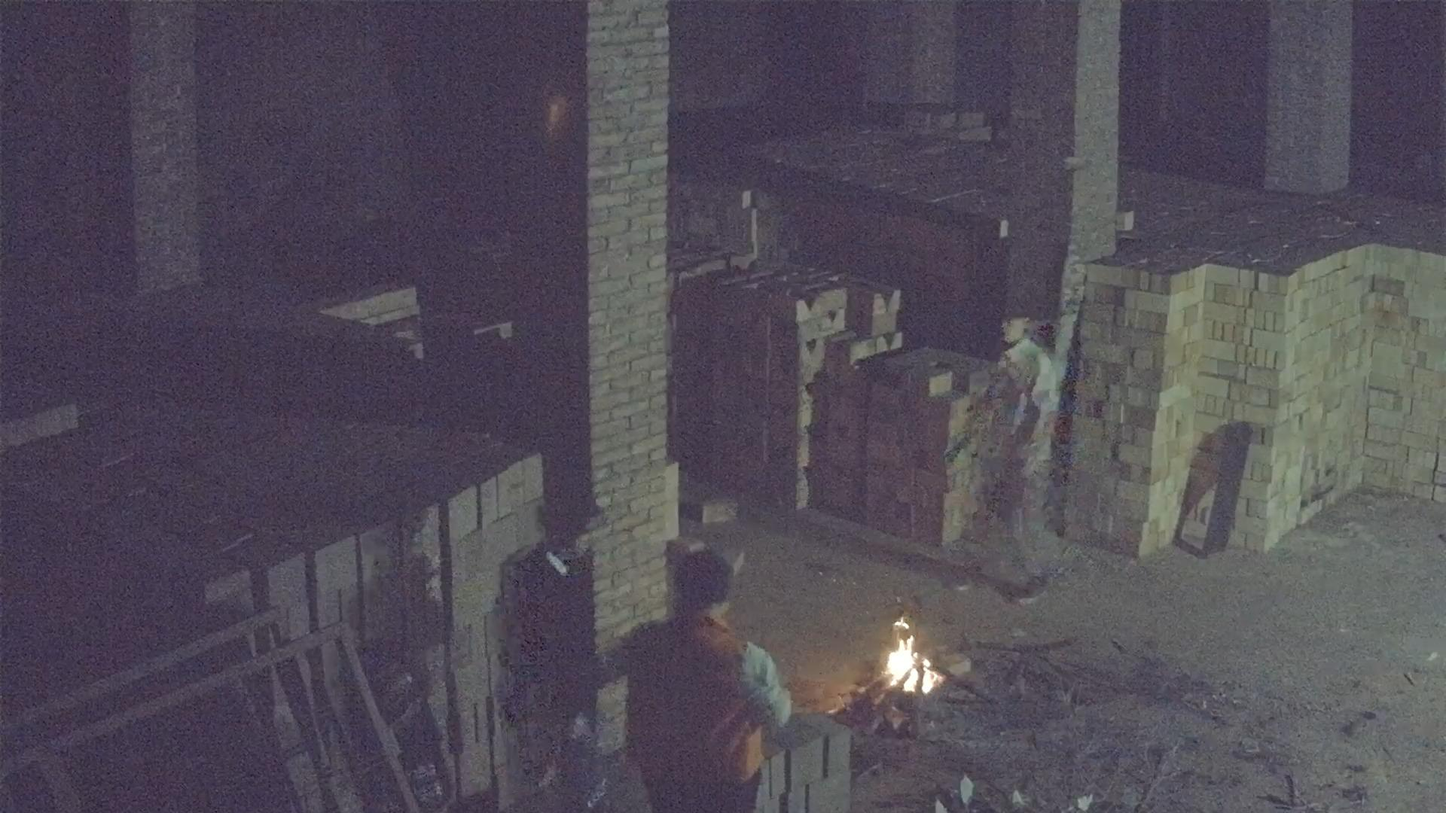fire: (883, 617, 942, 693)
